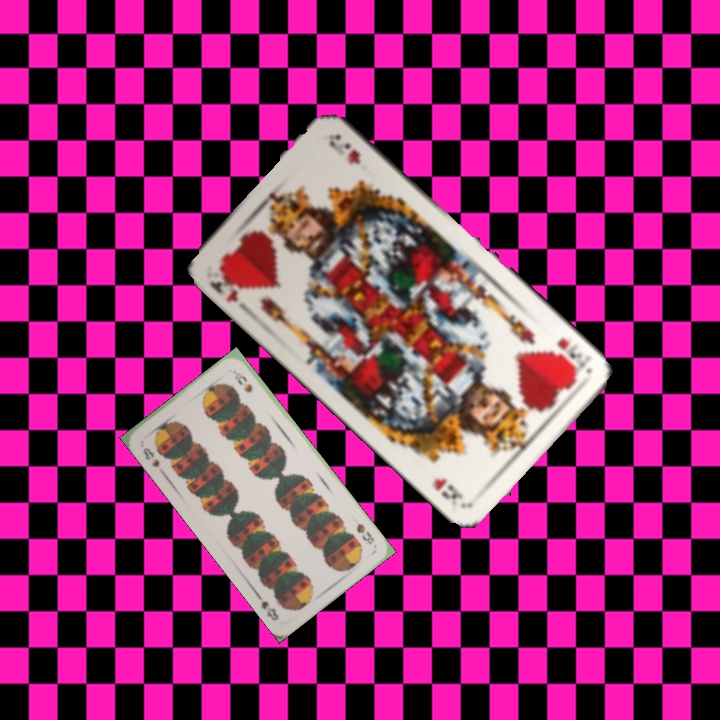HK: (204, 262, 251, 305), (553, 333, 594, 375)
S8: (352, 519, 377, 547), (139, 443, 163, 470)
